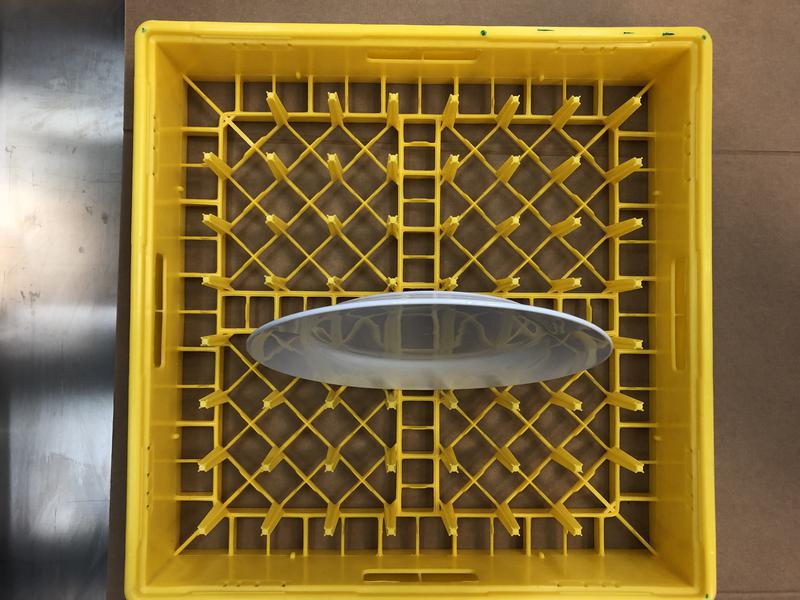Dish: (244, 288, 612, 395)
